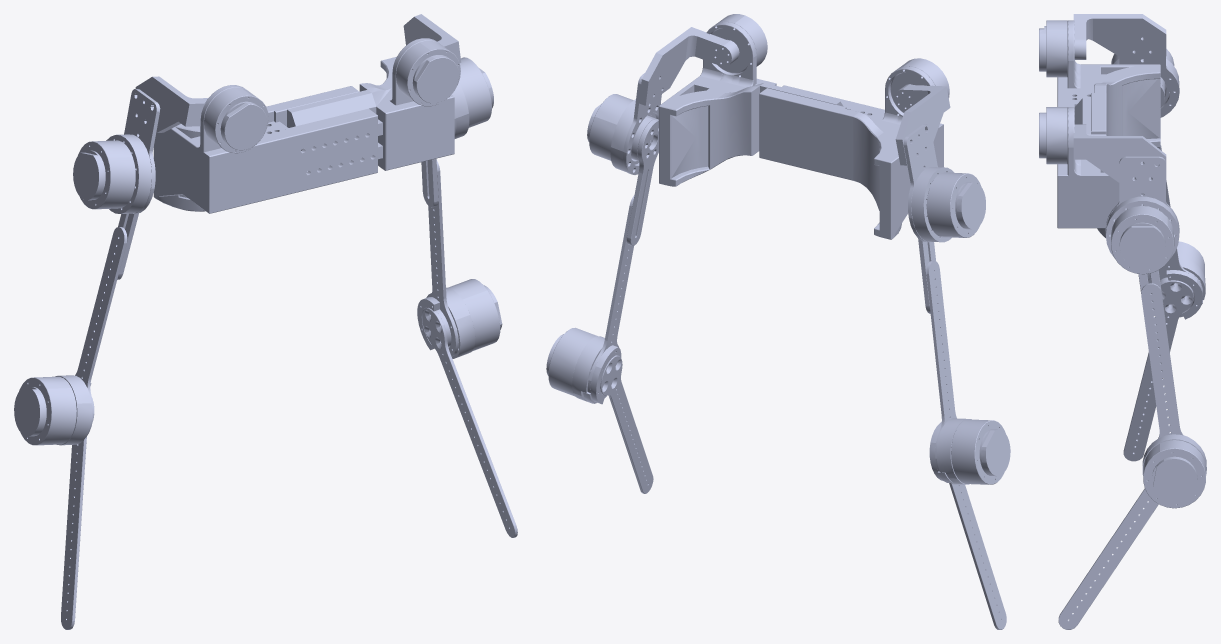
File: exoskeleton-frame.glb
3 views of the same model, side by side, from view 1: azimuth 30°, elevation 25°; view 2: azimuth 150°, elevation 25°; view 3: azimuth 270°, elevation 25° (orthographic). The views are drawn at different scales.
Parts seen in each view (by area): view 1: Left Waist 07032026, Right Waist 07032026, Middle Waist Part 07032026, ak80-64 MOTOR, ak80-64 MOTOR #3, ak70-10 #2, ak70-10, Knee_to_Shank_Frame_05212026, Knee_to_Shank_Frame_05212026 #2, Thigh_to_Knee_Frame_Left_06112026, Left Hip Abductor 07032026, ak80-64 MOTOR #4 (+8 smaller); view 2: Right Waist 07032026, Left Waist 07032026, Middle Waist Part 07032026, ak80-64 MOTOR #3, ak80-64 MOTOR, Right Hip Abductor 07032026, Thigh_to_Knee_Frame_Left_06112026, Knee_to_Shank_Frame_05212026, Left Hip Abductor 07032026, Knee_to_Shank_Frame_05212026 #2, Hip_to_Thigh_Frame_05212026 #2, ak80-64 MOTOR #4 (+11 smaller); view 3: Left Waist 07032026, Right Waist 07032026, ak80-64 MOTOR #2, ak80-64 MOTOR #4, Left Hip Abductor 07032026, Knee_to_Shank_Frame_05212026, Thigh_to_Knee_Frame_Right_05212026, Knee_to_Shank_Frame_05212026 #2, Right Hip Abductor 07032026, Hip_to_Waist_Frame_num2_05212026, ak70-10 #2, ak70-10 (+10 smaller).
Part boxes in pixels (x1,y1,x2,y2): Left Waist 07032026: (153,85,293,213); Right Waist 07032026: (287,38,454,172); Middle Waist Part 07032026: (268,86,377,193); ak80-64 MOTOR: (73,140,135,209); ak80-64 MOTOR #3: (14,376,76,445); ak70-10 #2: (396,40,460,106); ak70-10: (204,87,268,153); Knee_to_Shank_Frame_05212026: (422,307,517,537); Knee_to_Shank_Frame_05212026 #2: (61,398,94,629); Thigh_to_Knee_Frame_Left_06112026: (75,227,127,436); Left Hip Abductor 07032026: (135,76,208,132); ak80-64 MOTOR #4: (448,279,502,351); Right Waist 07032026: (658,22,843,186); Left Waist 07032026: (838,66,943,239); Middle Waist Part 07032026: (759,85,863,177); ak80-64 MOTOR #3: (951,419,1010,484); ak80-64 MOTOR: (926,172,985,237); Right Hip Abductor 07032026: (639,27,739,105); Thigh_to_Knee_Frame_Left_06112026: (926,261,956,483); Knee_to_Shank_Frame_05212026: (600,355,653,493); Left Hip Abductor 07032026: (894,84,950,165); Knee_to_Shank_Frame_05212026 #2: (949,483,1006,629); Hip_to_Thigh_Frame_05212026 #2: (626,118,658,245); ak80-64 MOTOR #4: (546,327,597,396); Left Waist 07032026: (1057,20,1160,147); Right Waist 07032026: (1057,98,1143,238); ak80-64 MOTOR #2: (1111,206,1174,274); ak80-64 MOTOR #4: (1143,440,1205,508); Left Hip Abductor 07032026: (1073,14,1166,59); Knee_to_Shank_Frame_05212026: (1058,488,1158,629); Thigh_to_Knee_Frame_Right_05212026: (1141,283,1183,438); Knee_to_Shank_Frame_05212026 #2: (1123,280,1193,461); Right Hip Abductor 07032026: (1073,124,1166,182); Hip_to_Waist_Frame_num2_05212026: (1105,156,1179,232); ak70-10 #2: (1039,107,1067,164); ak70-10: (1039,20,1067,77).
Size of the model in its own units: 0.7784 by 0.848 by 0.2598.
